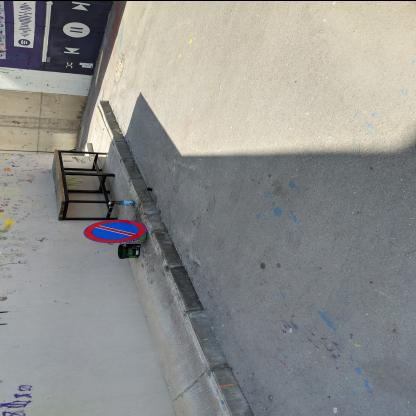No Waiting: (84, 220, 148, 244)
